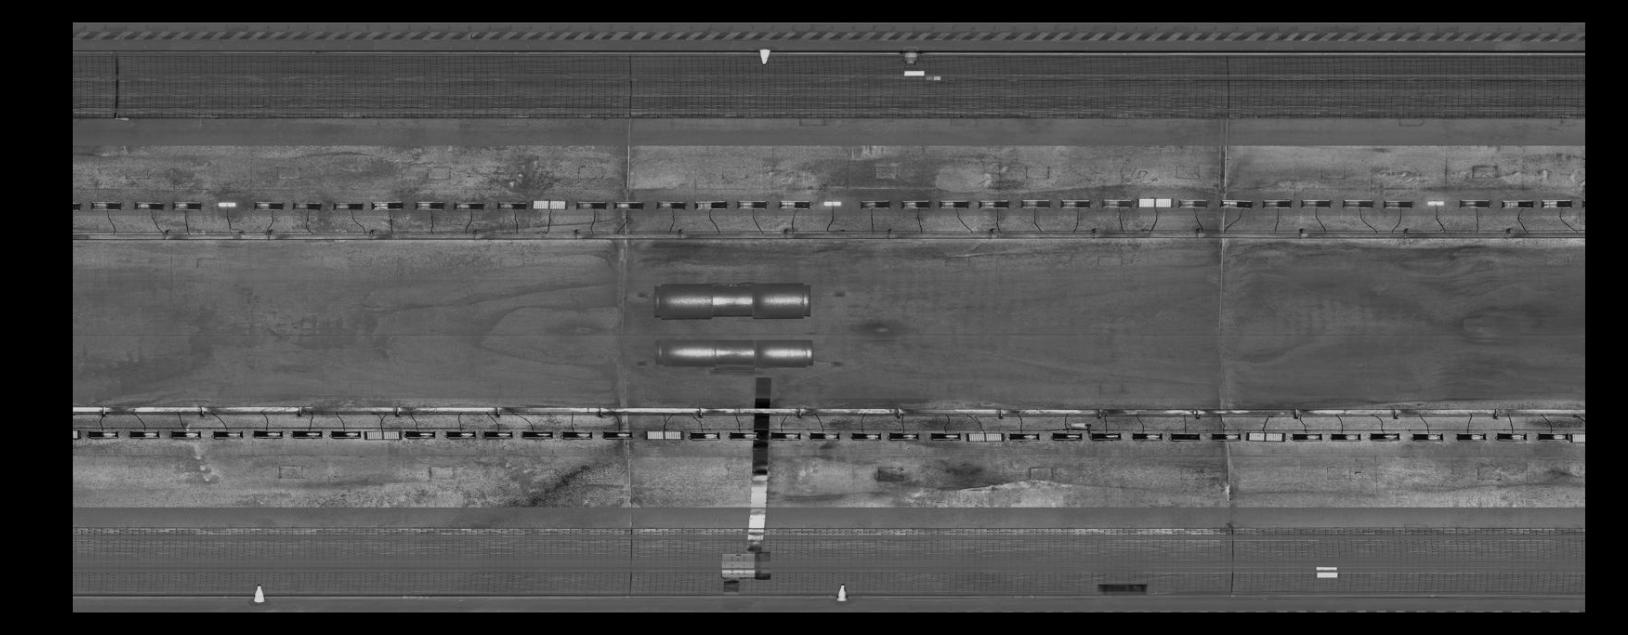light: (1244, 430, 1287, 444), (642, 427, 684, 442), (362, 427, 404, 442), (964, 430, 1005, 444), (1097, 195, 1135, 211), (367, 199, 406, 213), (530, 198, 569, 212), (974, 197, 1012, 211), (1136, 196, 1174, 210), (1339, 196, 1375, 211), (885, 429, 920, 443), (926, 427, 961, 442), (1088, 429, 1123, 443), (1218, 197, 1255, 211), (1497, 198, 1537, 211), (1326, 431, 1365, 443), (572, 198, 608, 212), (1056, 197, 1092, 211), (725, 429, 761, 442), (1167, 430, 1203, 443), (1208, 429, 1244, 442), (691, 199, 730, 212), (83, 427, 121, 440), (1408, 431, 1446, 443), (1453, 431, 1491, 443), (1493, 430, 1531, 442), (331, 199, 367, 213), (411, 198, 446, 212), (610, 198, 646, 212), (653, 198, 688, 212), (1017, 197, 1053, 211), (1299, 197, 1334, 211), (1538, 198, 1575, 211), (1365, 430, 1403, 442), (88, 198, 123, 212), (767, 430, 802, 443), (250, 199, 287, 212), (451, 199, 487, 212), (733, 198, 769, 211), (935, 198, 972, 211), (209, 427, 245, 440), (289, 427, 325, 440), (131, 199, 166, 212), (494, 199, 530, 212), (898, 199, 933, 212), (1380, 198, 1415, 211), (251, 427, 287, 440), (328, 427, 363, 440), (601, 429, 636, 441), (807, 430, 842, 442), (1006, 431, 1041, 443), (1048, 431, 1083, 443), (1288, 432, 1324, 444), (1456, 198, 1494, 210), (289, 199, 323, 212), (1176, 197, 1211, 210), (124, 429, 161, 440), (518, 429, 555, 440), (557, 429, 594, 440), (776, 198, 812, 210), (167, 429, 203, 440), (1129, 431, 1165, 442), (1534, 431, 1570, 442), (170, 199, 203, 212), (1259, 197, 1293, 210), (444, 427, 478, 440), (687, 430, 721, 442), (848, 430, 881, 442), (401, 429, 436, 440), (857, 199, 894, 210), (481, 429, 514, 439), (213, 199, 240, 210), (1422, 199, 1449, 208), (821, 199, 844, 209), (1570, 432, 1585, 443), (73, 425, 82, 442), (73, 198, 83, 212)
